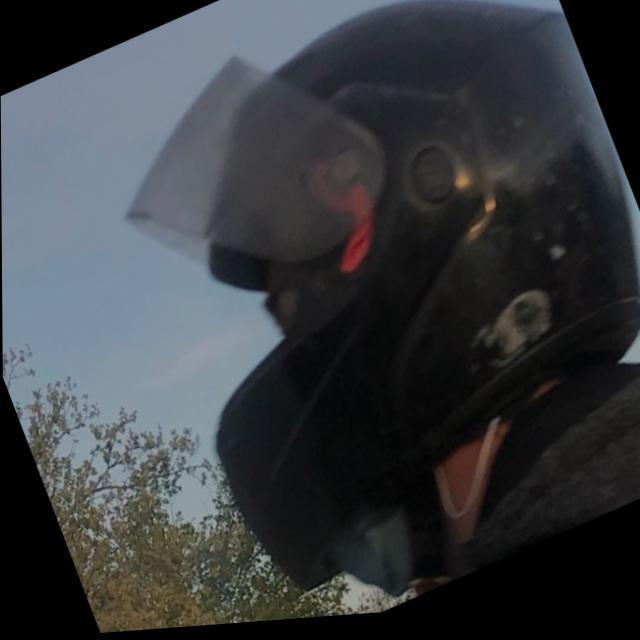Helmet: (123, 3, 636, 593)
